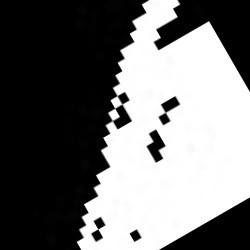spot: (77, 2, 248, 248)
